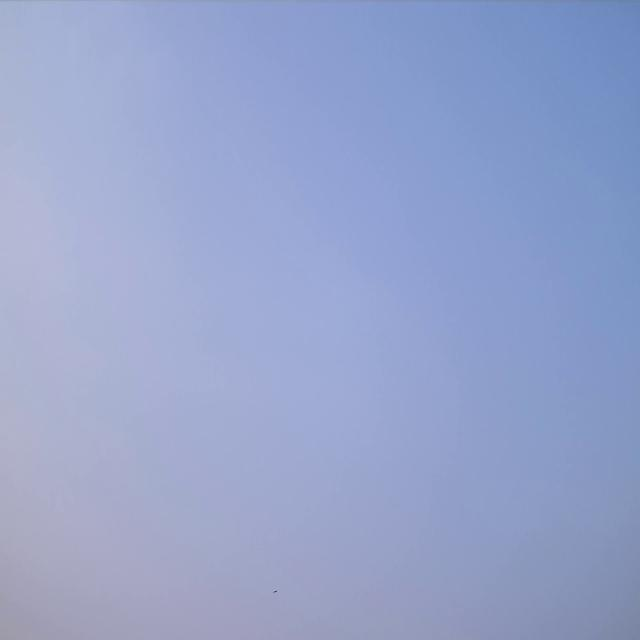UAV: (273, 590, 277, 594)
